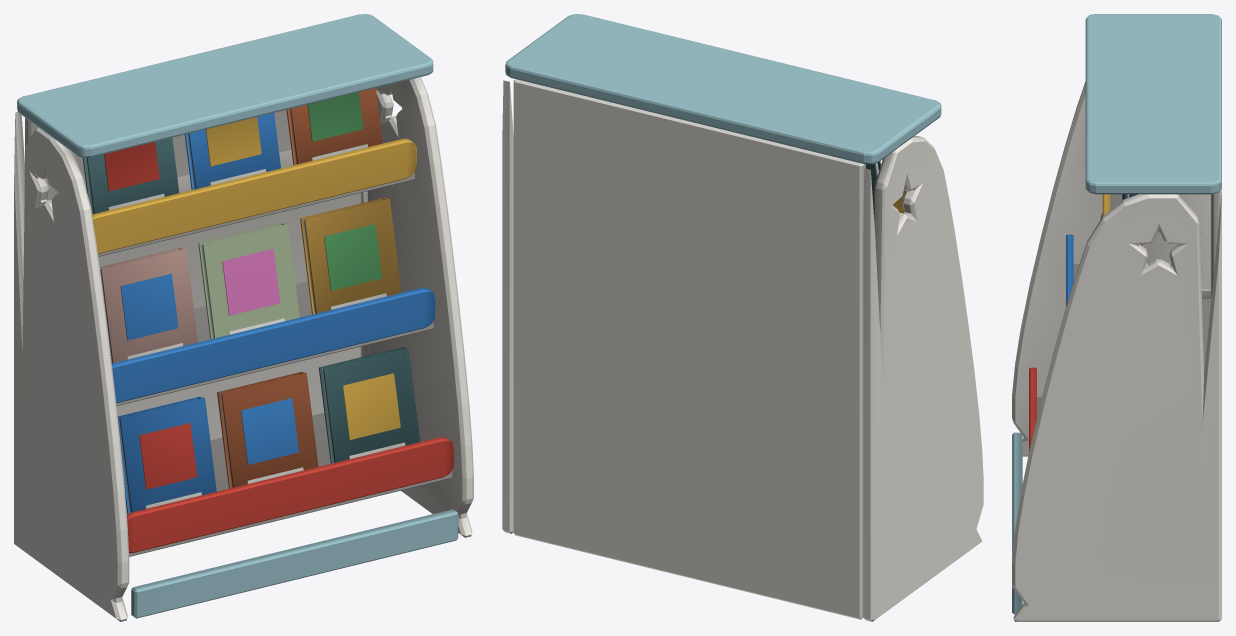
File: kidsBookshelf.glb
3 views of the same model, side by side, from view 1: azimuth 30°, elevation 25°; view 2: azimuth 150°, elevation 25°; view 3: azimuth 270°, elevation 25° (orthographic). The views are drawn at different scales.
Parts seen in each view (by area): view 1: body, book; view 2: body; view 3: body.
Part boxes in pixels (x1=…): body: x1=14, y1=14, x2=473, y2=621; book: x1=198, y1=222, x2=299, y2=339; body: x1=502, y1=14, x2=983, y2=621; body: x1=1012, y1=14, x2=1221, y2=621.
Size of the model in its own units: 0.77 by 0.925 by 0.4.
